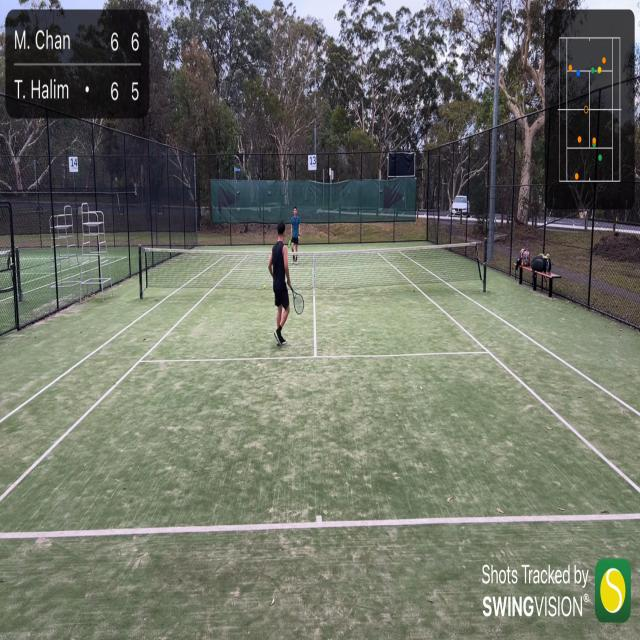ball: (263, 284, 266, 290)
